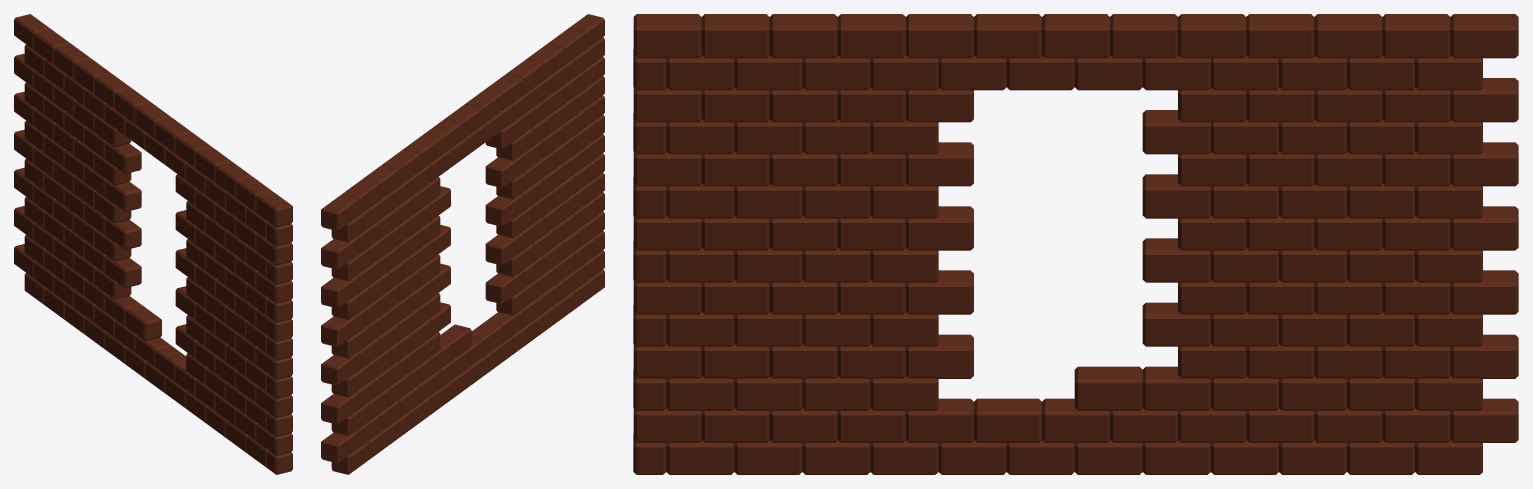
The model's file is BrickWallEndBroken.glb.
3 views of the same model, side by side, from view 1: azimuth 30°, elevation 25°; view 2: azimuth 150°, elevation 25°; view 3: azimuth 270°, elevation 25° (orthographic). The views are drawn at different scales.
Parts seen in each view (by area): view 1: Cube; view 2: Cube; view 3: Cube.
Boxes of the visible parts, left/top/right/bottom form: Cube: left=14, top=14, right=292, bottom=474; Cube: left=321, top=14, right=604, bottom=474; Cube: left=633, top=14, right=1518, bottom=474.
Bounding box in the file's own units: 0.3218 × 4.5 × 8.05.
